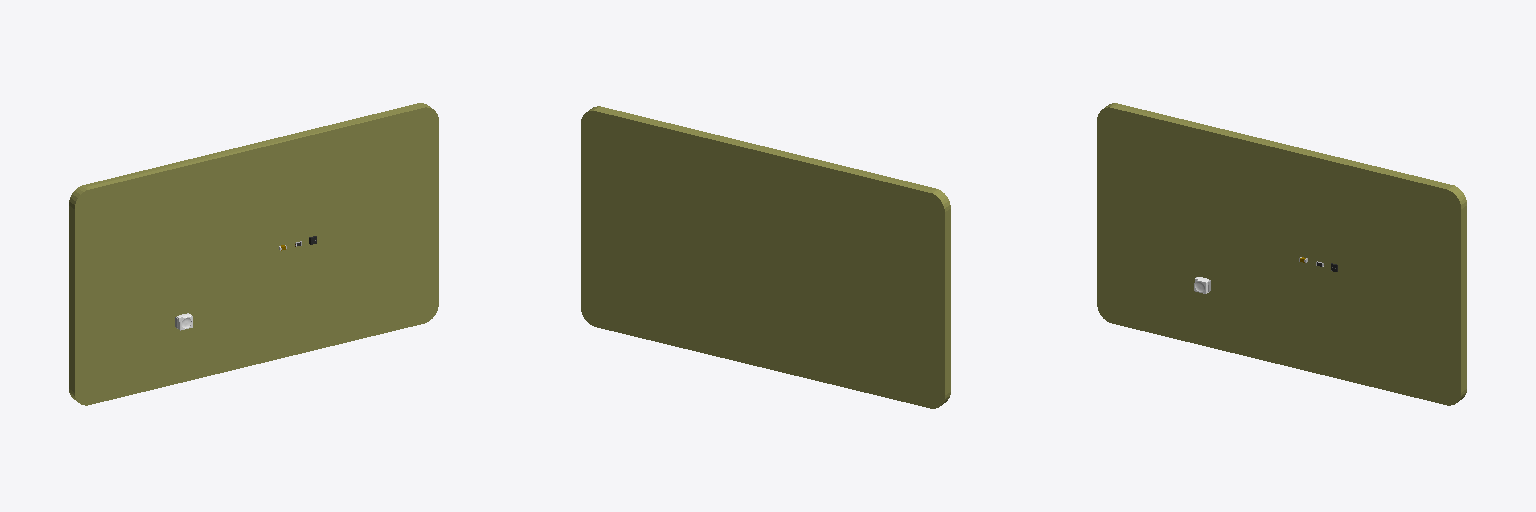
File: OBJ_PCB_PCB-design.obj
The picture shows the model from 3 angles: view 1: azimuth 30°, elevation 25°; view 2: azimuth 150°, elevation 25°; view 3: azimuth 330°, elevation 25°; orthographic projection.
Size of the model in its own units: 349 by 198 by 17.48.